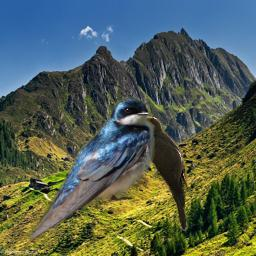Cuckoo: (132, 115, 190, 232)
Swallow: (28, 94, 156, 244)
